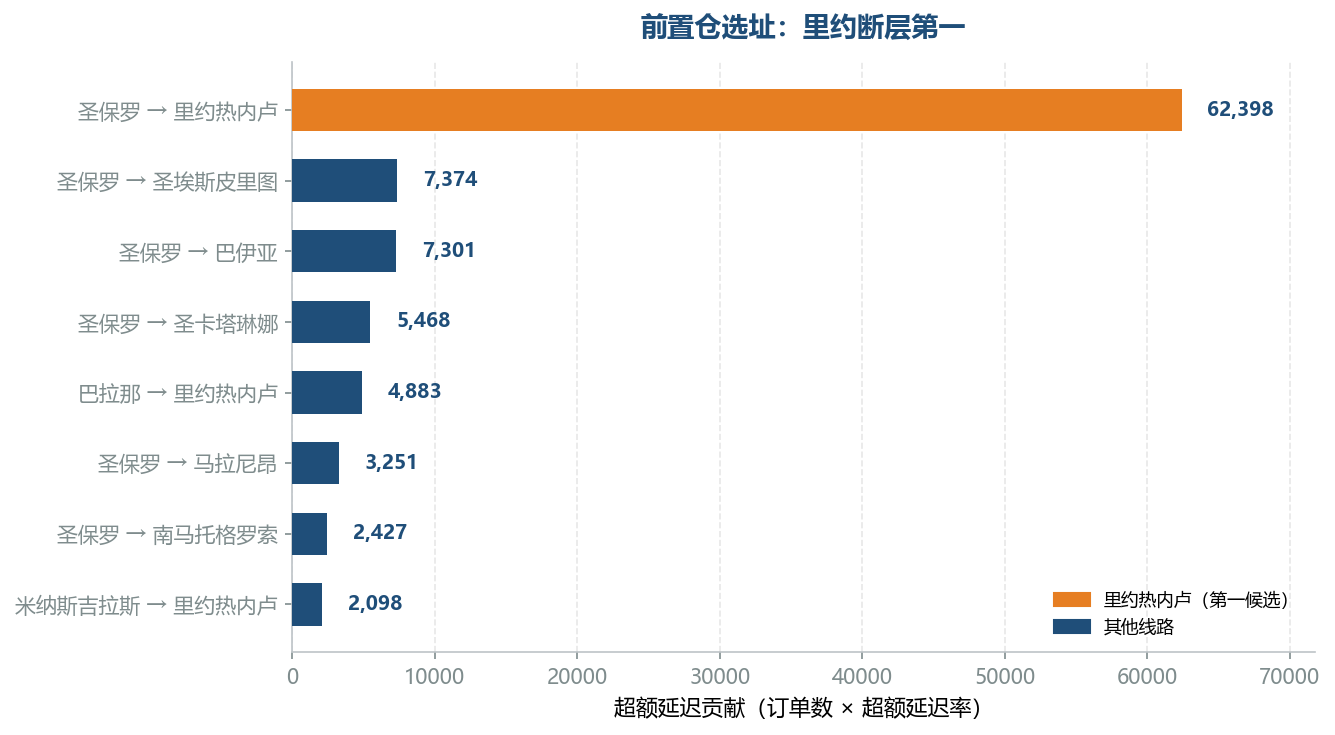

This screenshot's page, from the dashboard's own definition file:
{"tool":"powerbi","page":{"name":"第 4 页","canvas":[1920,1080],"ordinal":3},"visuals":[{"type":"barChart","title":"不正常超额延迟贡献 ","fields":{"Category":["分线路统计.地点组"],"Y":["Sum(分线路统计.超额延迟贡献)"]},"box":[9.1,0,1910.9,1080.6],"z":0}]}

Visuals, with their boxes in screenshot pixels (x1, y1, x2, y2), scaled from the page's 1920x1080 canvas onto the 1335x735 screenshot:
"不正常超额延迟贡献 " barChart: detection(6, 0, 1334, 734)
